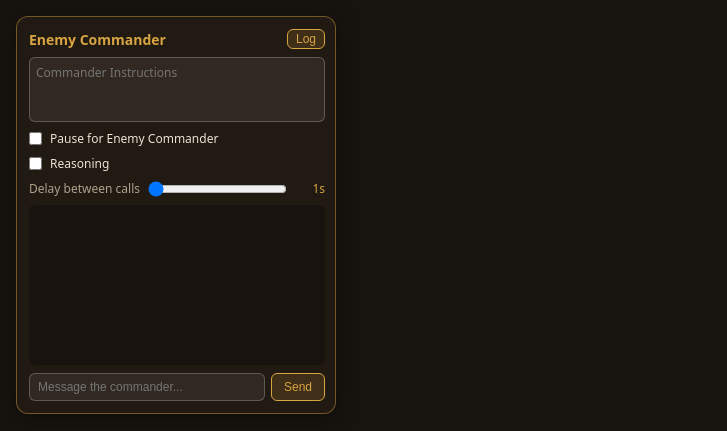
Test case: EnemyChat › shows an empty response log until a turn arrives
Click the button with class "chat-log-toggle" at (306, 39), box 287,29 -> 325,49
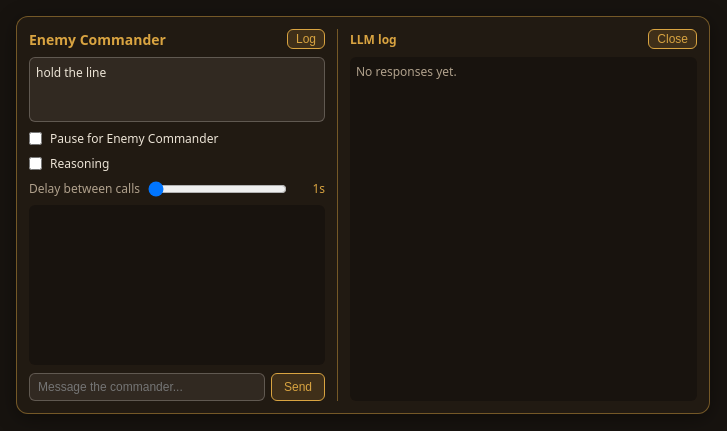
Now the text "No responses yet." is shown, box 356,63 -> 457,80
